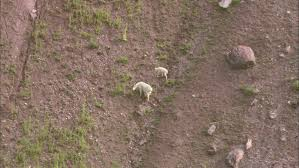sheep: (131, 80, 155, 100), (152, 65, 169, 80)
